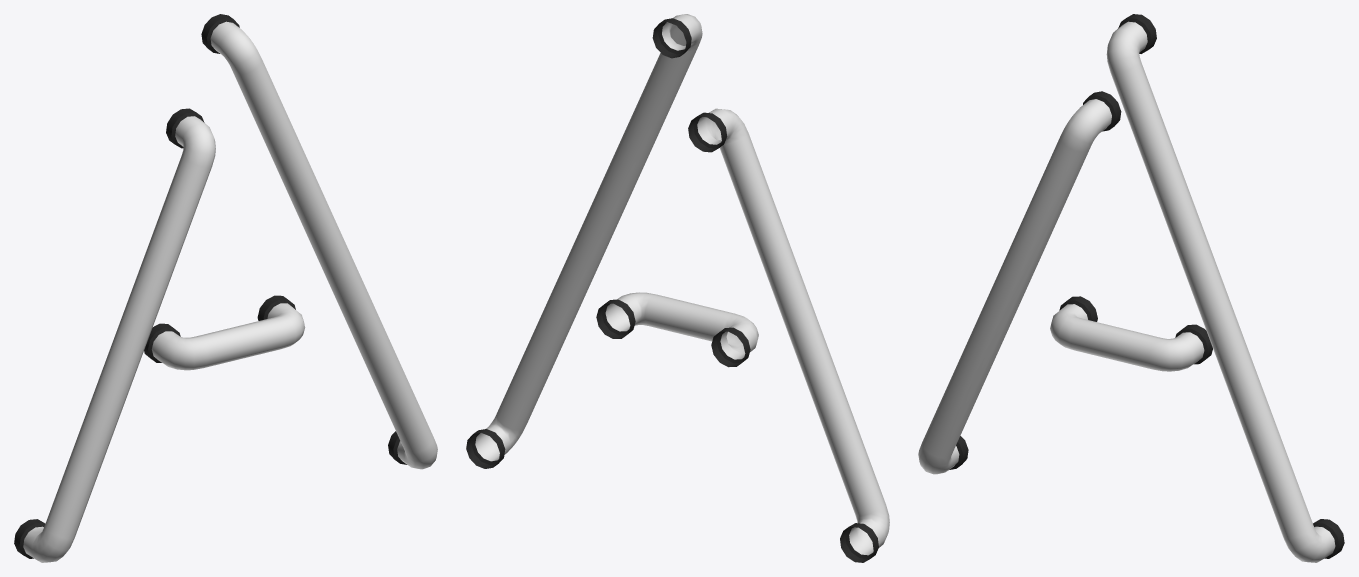
Rendered from LettersNeon01_A.FBX.
The picture shows the model from 3 angles, left to right: view 1: azimuth 30°, elevation 25°; view 2: azimuth 150°, elevation 25°; view 3: azimuth 330°, elevation 25°; orthographic projection.
Visible parts, largest first — view 1: LettersNeon01_A; view 2: LettersNeon01_A; view 3: LettersNeon01_A.
Part boxes in pixels (box(x1,y1,x2,y2)): LettersNeon01_A: box(14, 14, 437, 562); LettersNeon01_A: box(466, 14, 889, 562); LettersNeon01_A: box(918, 14, 1344, 562).
Size of what is drawn, in the model's own units: 0.4341 by 0.5032 by 0.054.
